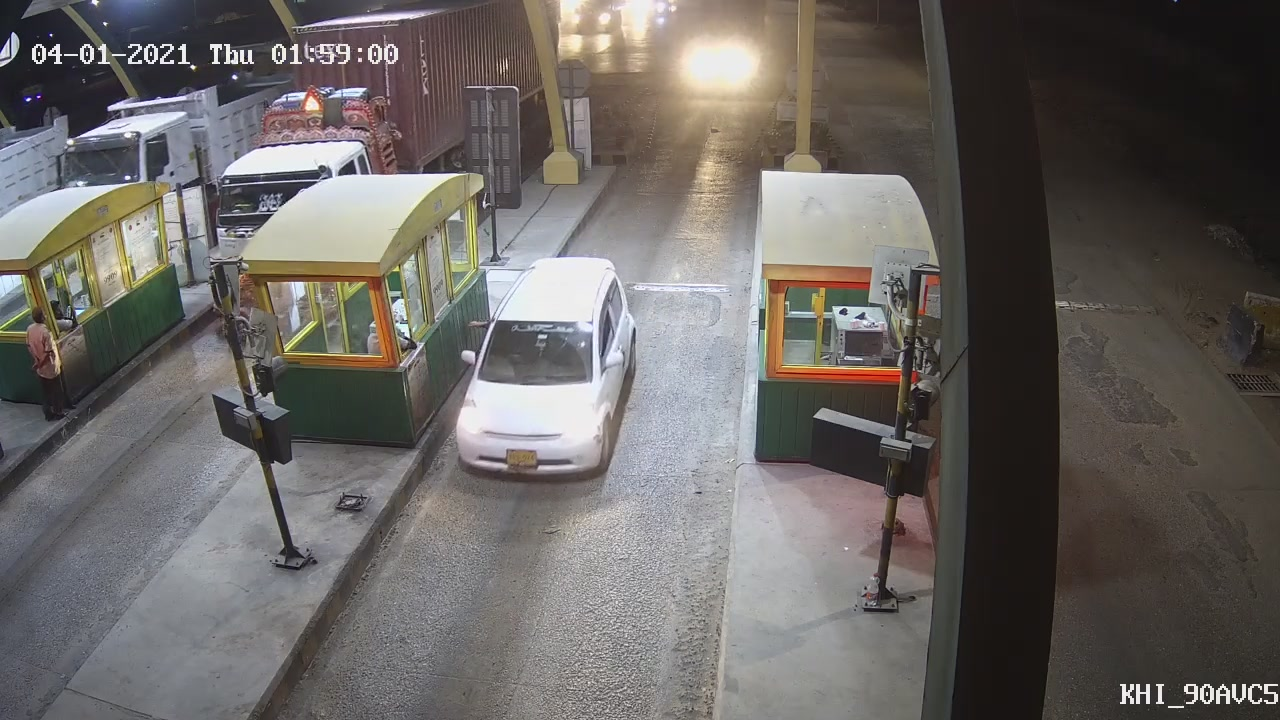F1: (446, 255, 645, 482)
